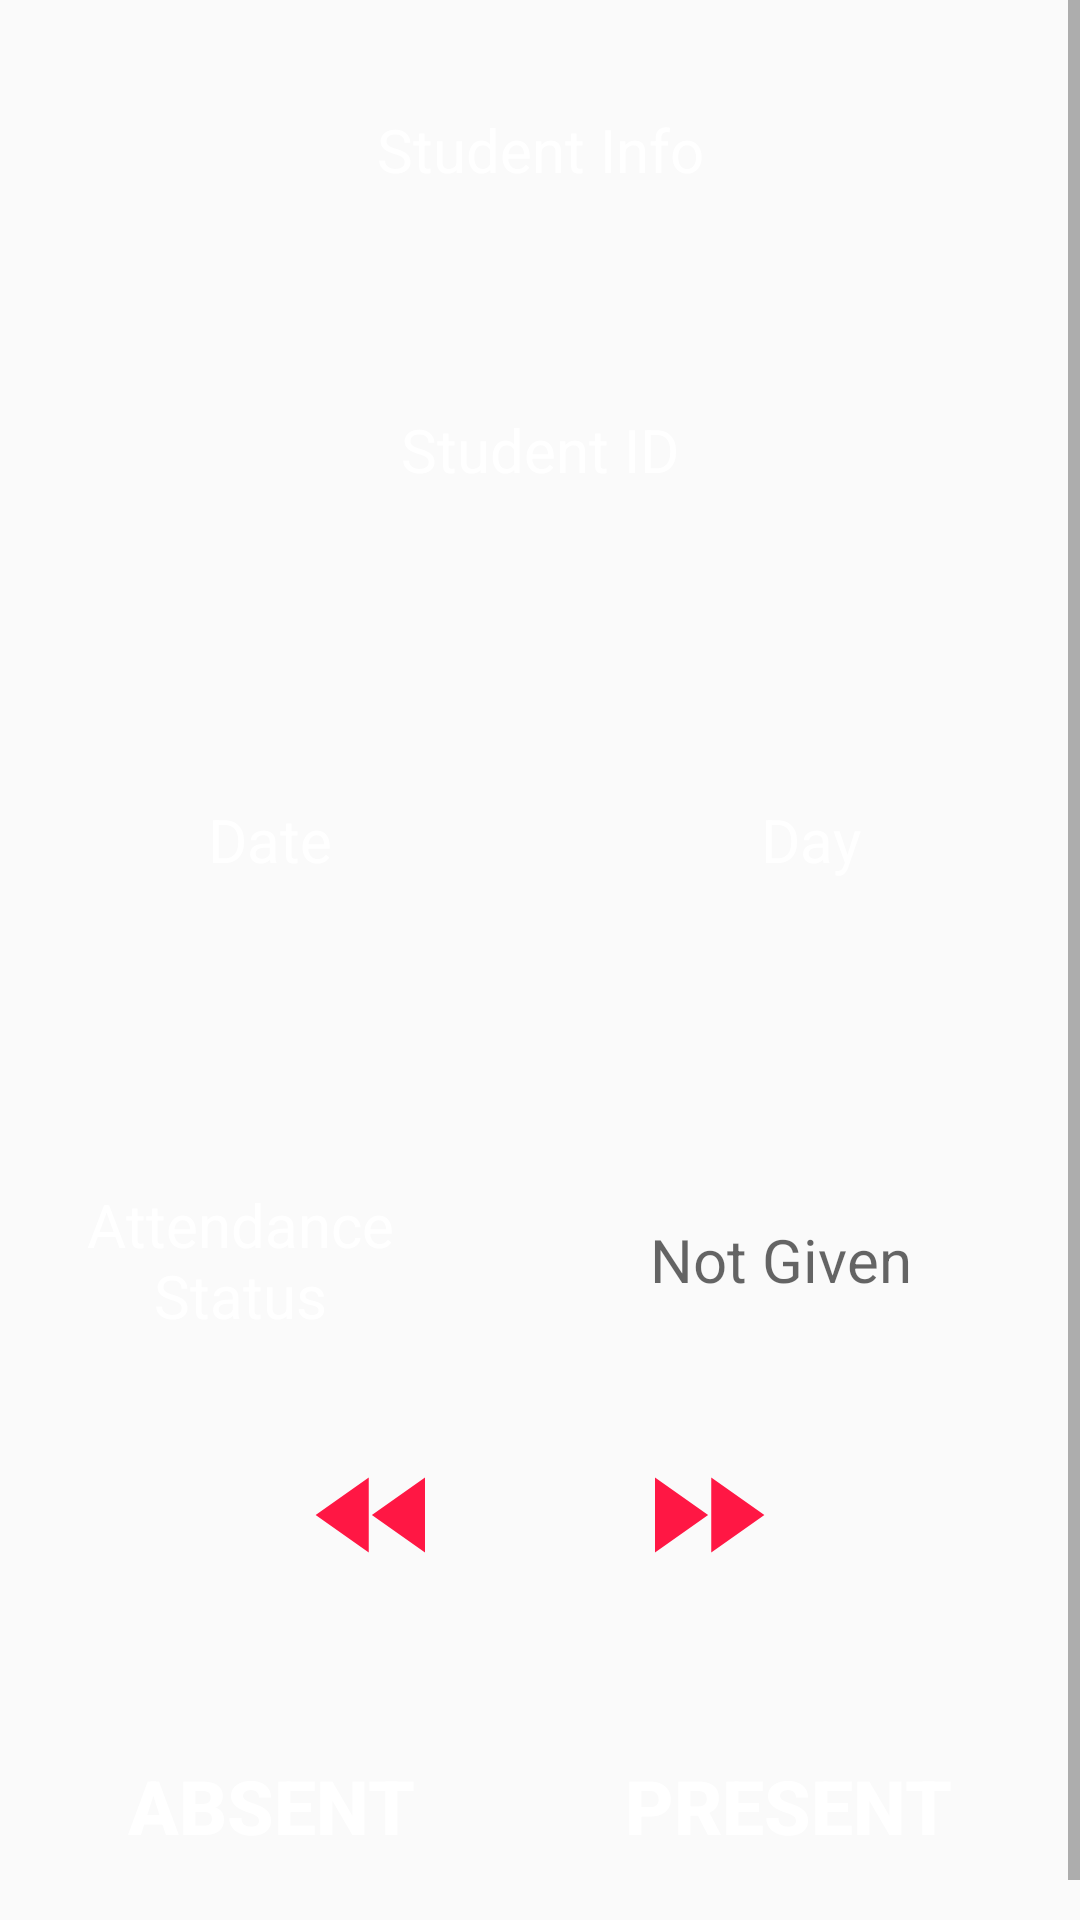

Screen size 1080px×1920px. Icon name, then its box in pixels as (x1, y1, x2, y2):
back: (316, 1477, 425, 1553)
next: (655, 1477, 764, 1553)
